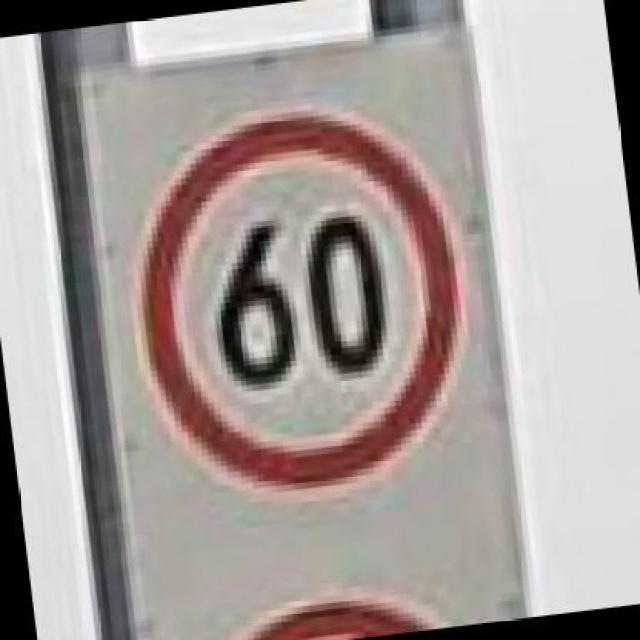Limite-60: (135, 106, 469, 501)
